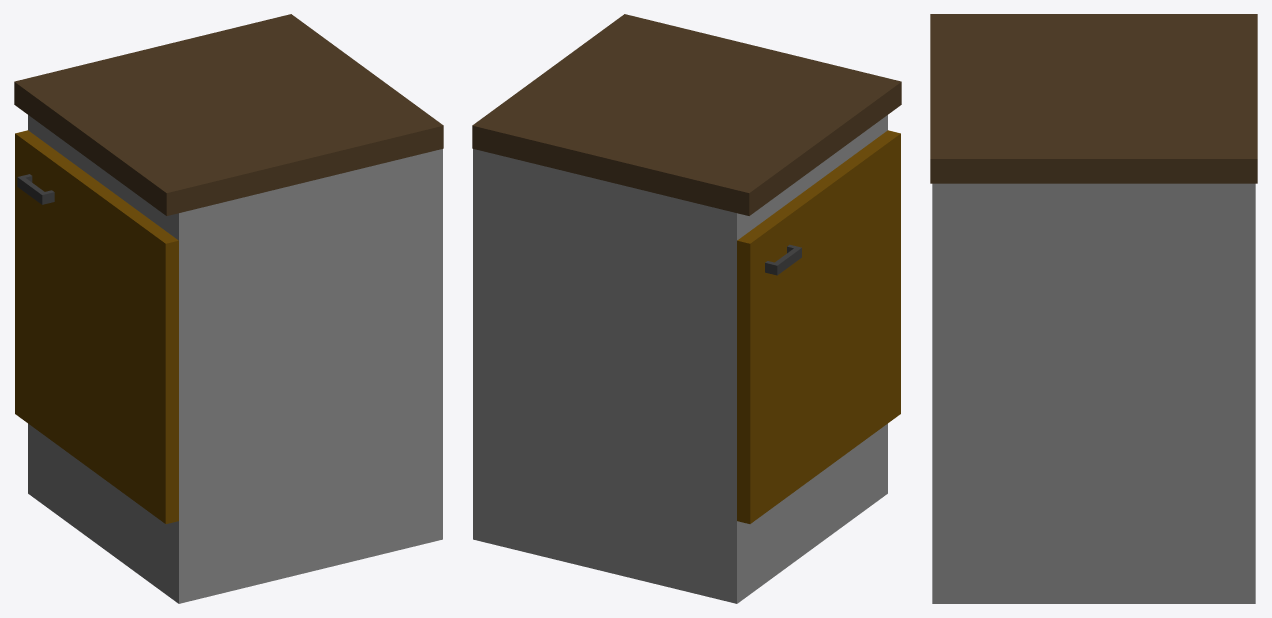
The model's file is KitchenCounterRight.fbx.
3 renders of one model, left to right at view 1: azimuth 30°, elevation 25°; view 2: azimuth 150°, elevation 25°; view 3: azimuth 270°, elevation 25°, orthographic. The views are drawn at different scales.
Visible parts, largest first — view 1: pCube4, pCube5; view 2: pCube4, pCube5; view 3: pCube4.
Part boxes in pixels (x1,y1,x2,y2): pCube4: (14,14,443,603); pCube5: (17,174,54,204); pCube4: (472,14,901,603); pCube5: (765,244,801,275); pCube4: (930,14,1257,603).
Size of the model in its own units: 1.1 by 1.5 by 1.
